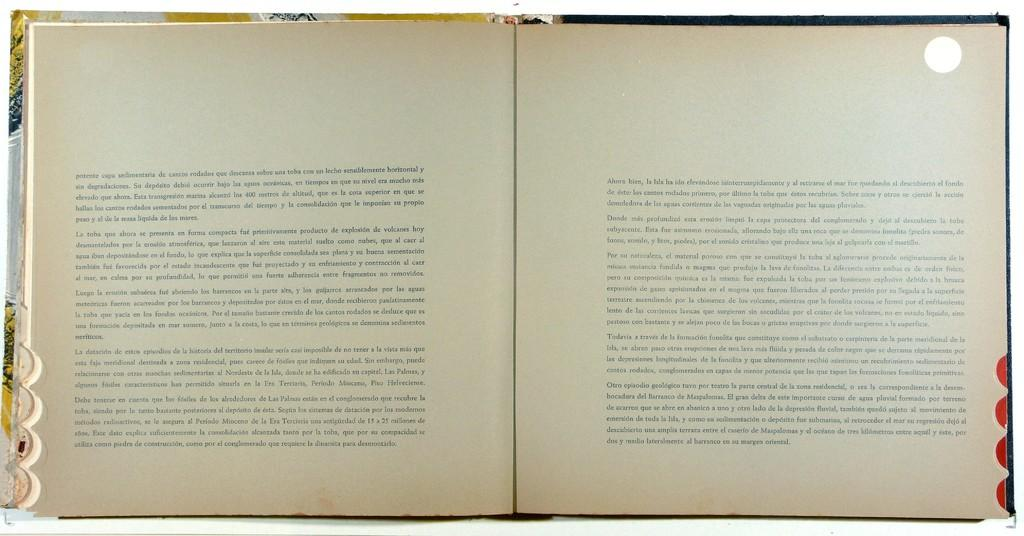book: (10, 24, 1011, 519)
